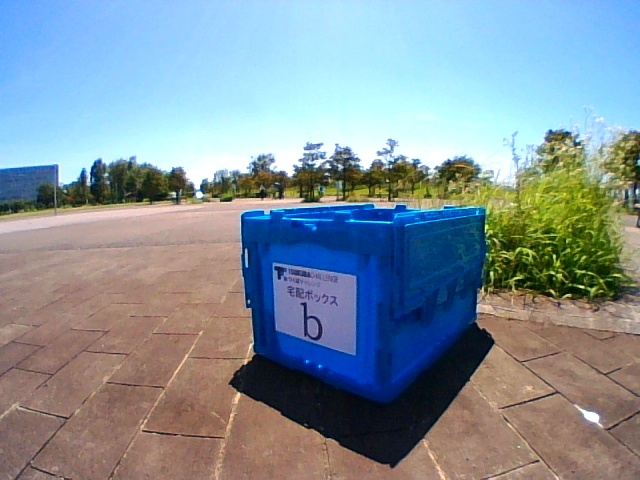blue_box: (242, 208, 479, 352)
tag_b: (286, 279, 351, 341)
